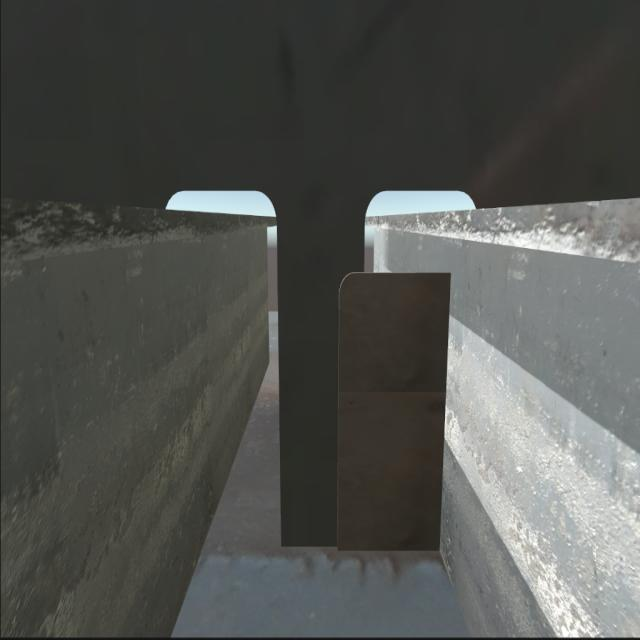fillet_yong_jeop_jang: (281, 534, 446, 564)
longi_yong_jeop_jang: (437, 268, 455, 548)
plate_CP05: (336, 273, 443, 543)
